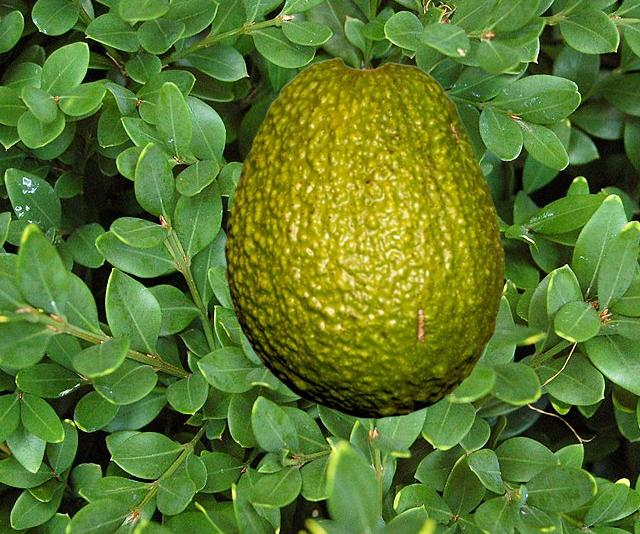avocado: (224, 57, 503, 418)
